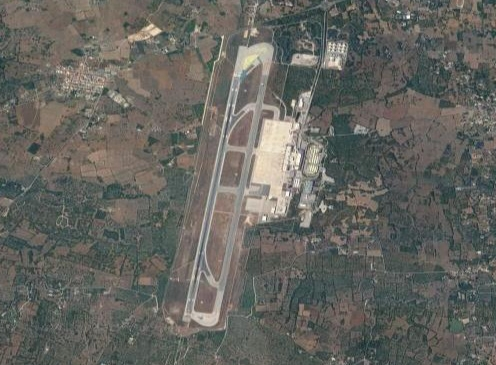airport: (181, 42, 302, 329)
